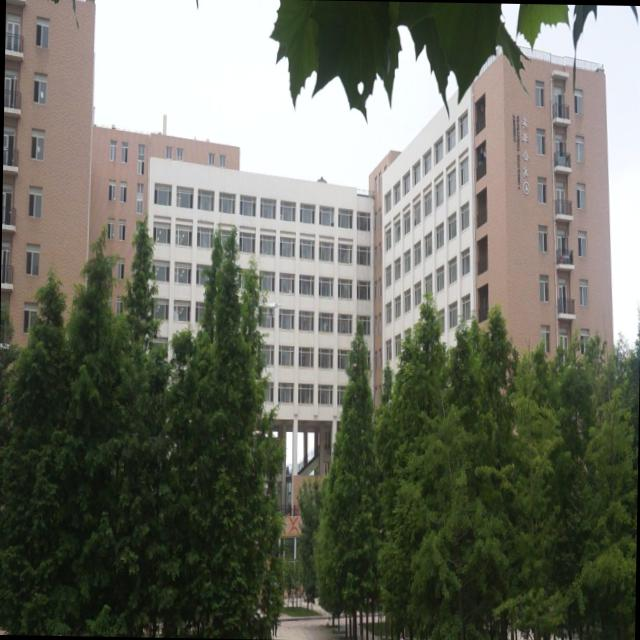drone: (253, 297, 280, 319)
